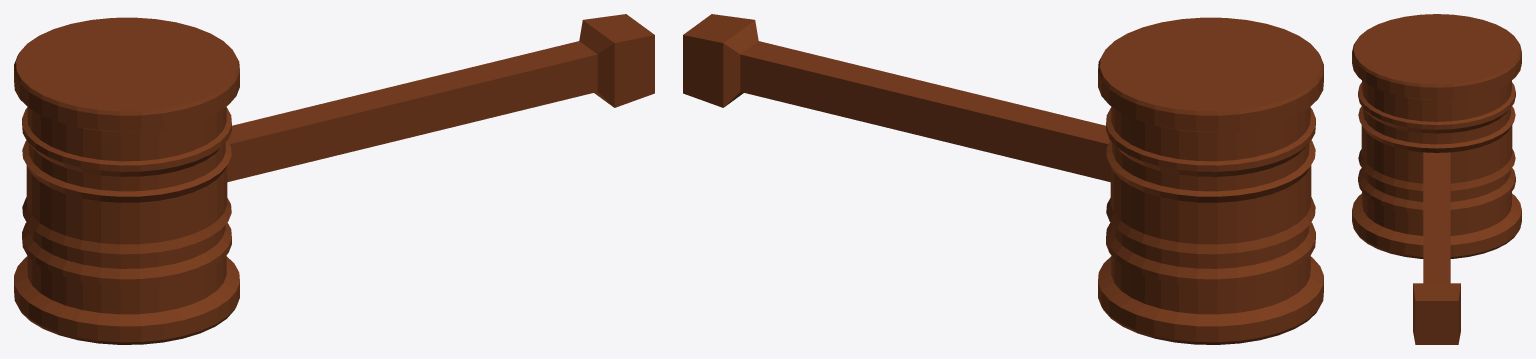
File: Hammer.fbx
3 views of the same model, side by side, from view 1: azimuth 30°, elevation 25°; view 2: azimuth 150°, elevation 25°; view 3: azimuth 270°, elevation 25° (orthographic). The views are drawn at different scales.
Visible parts, largest first — view 1: Cube; view 2: Cube; view 3: Cube.
Part boxes in pixels (x1,y1,x2,y2): Cube: [14, 14, 654, 344]; Cube: [683, 14, 1323, 344]; Cube: [1352, 14, 1521, 344].
Bounding box in the file's own units: 324 × 118 × 104.
